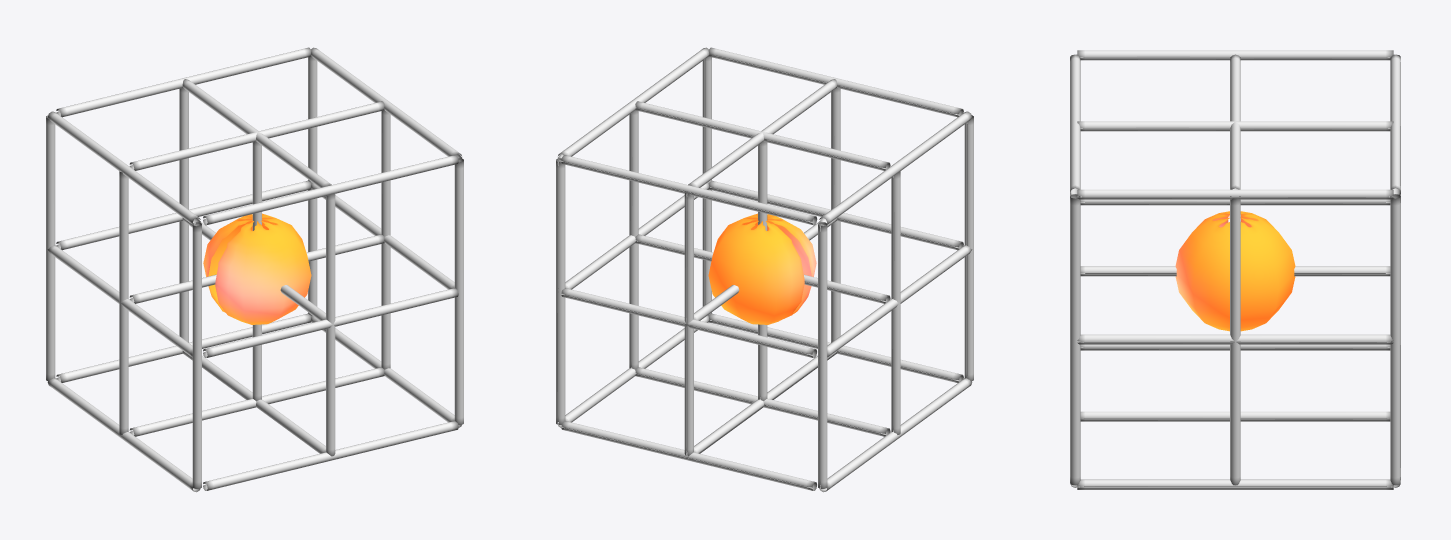
File: MOLECULA.fbx
The picture shows the model from 3 angles, left to right: view 1: azimuth 30°, elevation 25°; view 2: azimuth 150°, elevation 25°; view 3: azimuth 270°, elevation 25°; orthographic projection. The views are drawn at different scales.
Visible parts, largest first — view 1: Molecula; view 2: Molecula; view 3: Molecula.
Boxes of the visible parts, left/top/right/bottom form: Molecula: left=46, top=47, right=463, bottom=492; Molecula: left=556, top=47, right=973, bottom=492; Molecula: left=1070, top=50, right=1400, bottom=489.
Bounding box in the file's own units: 16.97 × 16.55 × 16.55.
